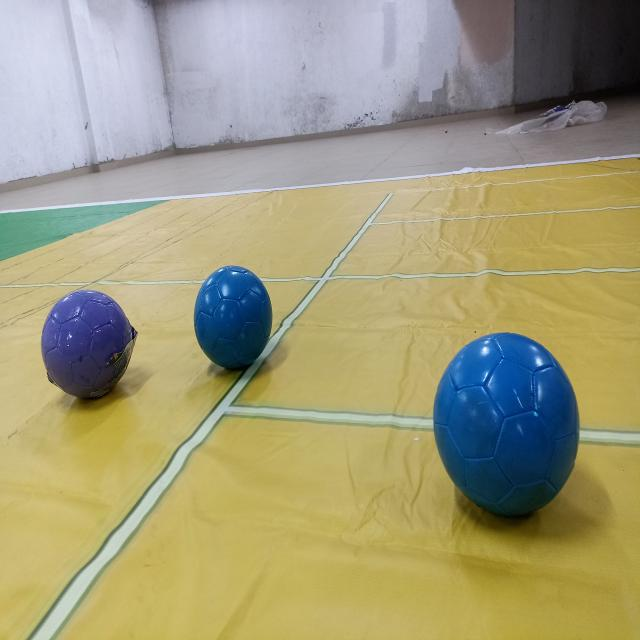blue_ball: (439, 338, 575, 515), (198, 271, 270, 367)
purple_ball: (49, 292, 130, 390)
